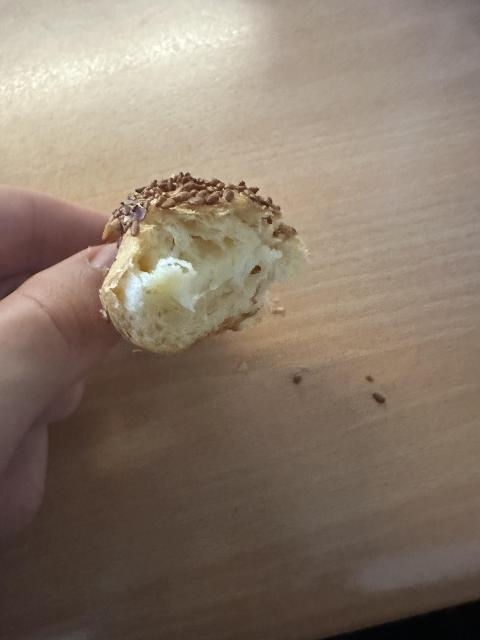Organik: (92, 170, 321, 354)
